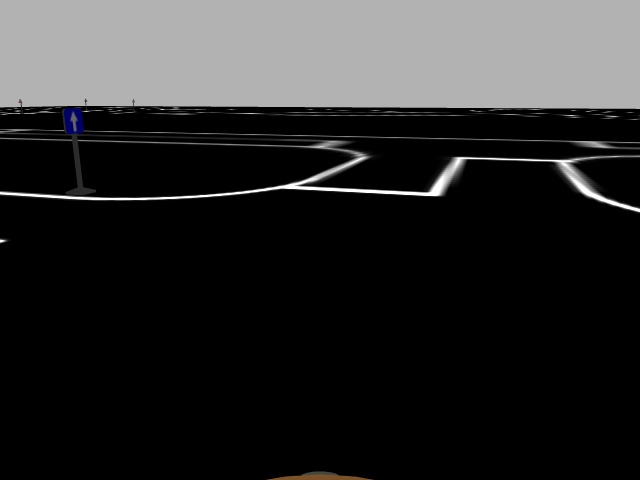oneway: (60, 107, 86, 138)
